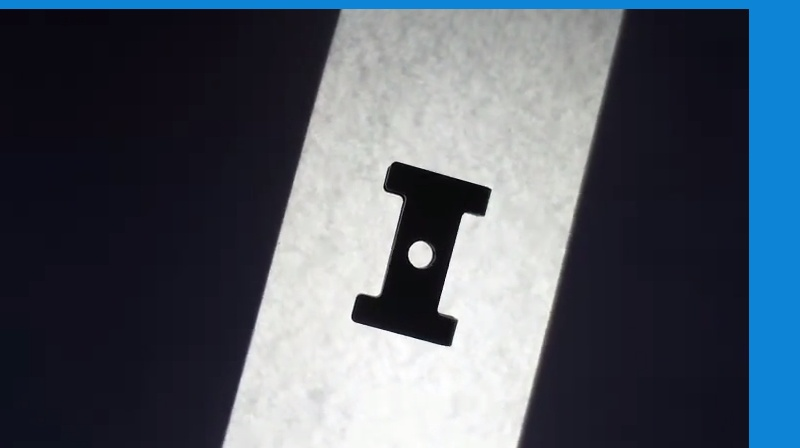O002: (344, 159, 497, 349)
